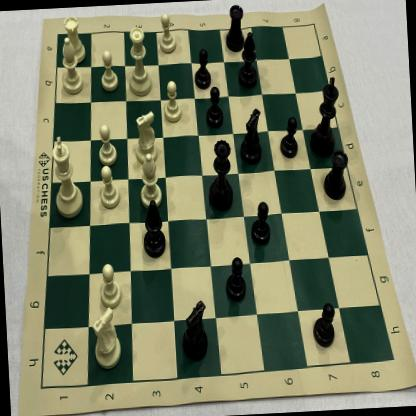black-bishop: (132, 196, 169, 260), (235, 27, 261, 92)
black-king: (306, 70, 344, 162)
black-pawn: (308, 299, 340, 351), (221, 251, 249, 305), (245, 197, 274, 248), (202, 80, 225, 132), (276, 113, 300, 162), (190, 42, 214, 91)
black-queen: (203, 136, 237, 212)
black-rook: (319, 146, 352, 206), (220, 2, 248, 56)
white-bishop: (134, 150, 166, 214), (56, 34, 86, 98)
white-king: (44, 130, 88, 223)
white-knight: (89, 306, 128, 372), (131, 106, 160, 164)
white-pawn: (94, 258, 124, 310), (96, 162, 124, 212), (158, 76, 184, 126), (94, 118, 120, 168), (96, 46, 121, 95), (156, 11, 178, 57)
white-queen: (122, 24, 155, 100)
white-rook: (60, 10, 90, 67)
